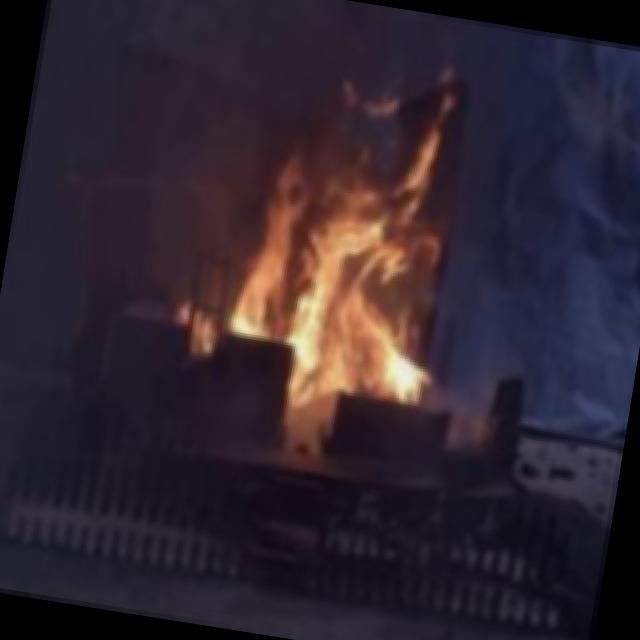fire: (230, 58, 483, 442)
